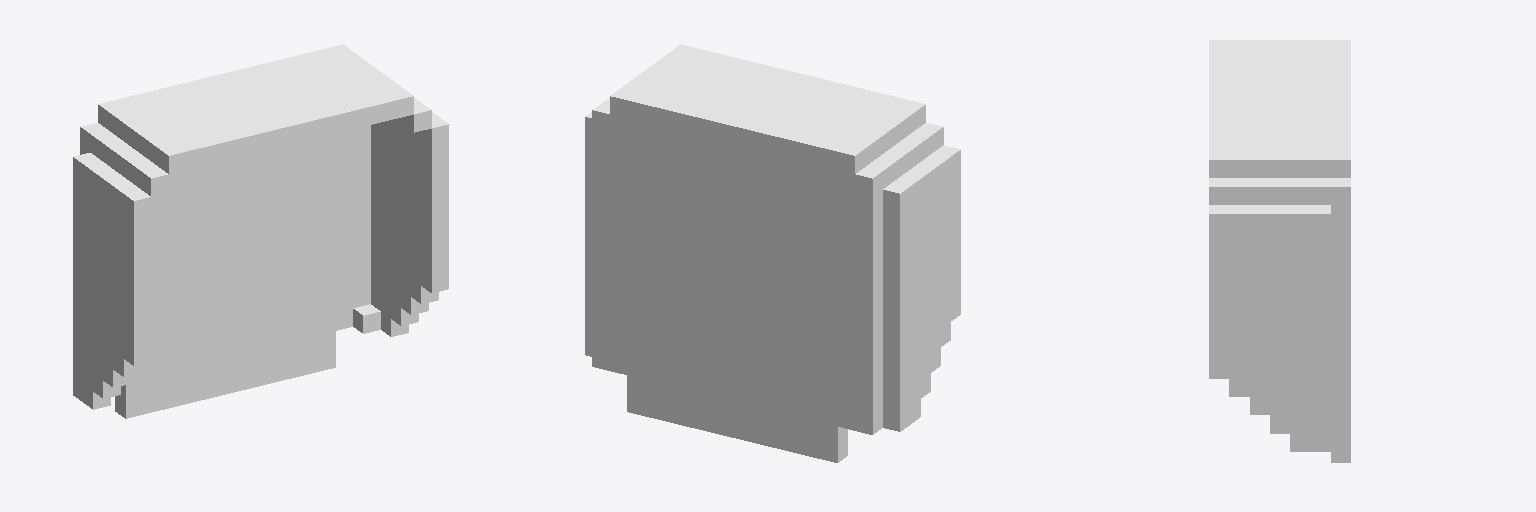
File: gato_astronauta_casco-3.obj
The picture shows the model from 3 angles: view 1: azimuth 30°, elevation 25°; view 2: azimuth 150°, elevation 25°; view 3: azimuth 270°, elevation 25°; orthographic projection.
Visible parts, largest first — view 1: object 1; view 2: object 1; view 3: object 1.
Part boxes in pixels (x1,y1,x2,y2): object 1: (73, 44, 448, 418); object 1: (585, 44, 960, 462); object 1: (1209, 40, 1350, 462).
Bounding box in the file's own units: 1.8 × 1.7 × 0.7.